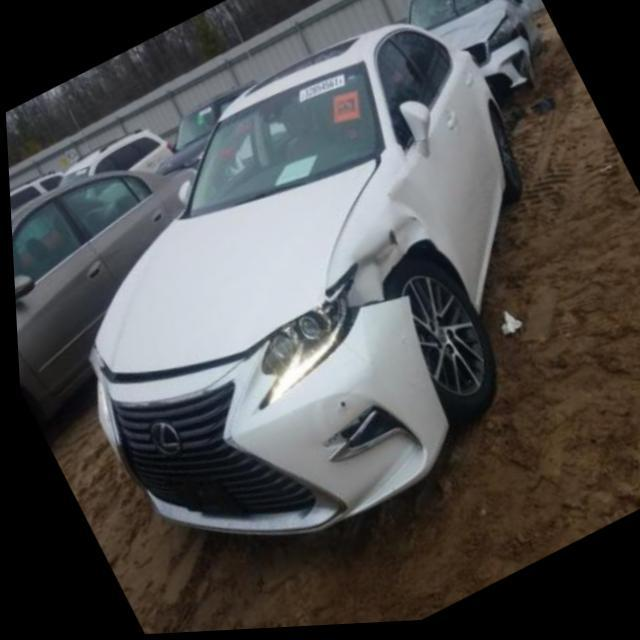dislocated part: (314, 213, 432, 344)
